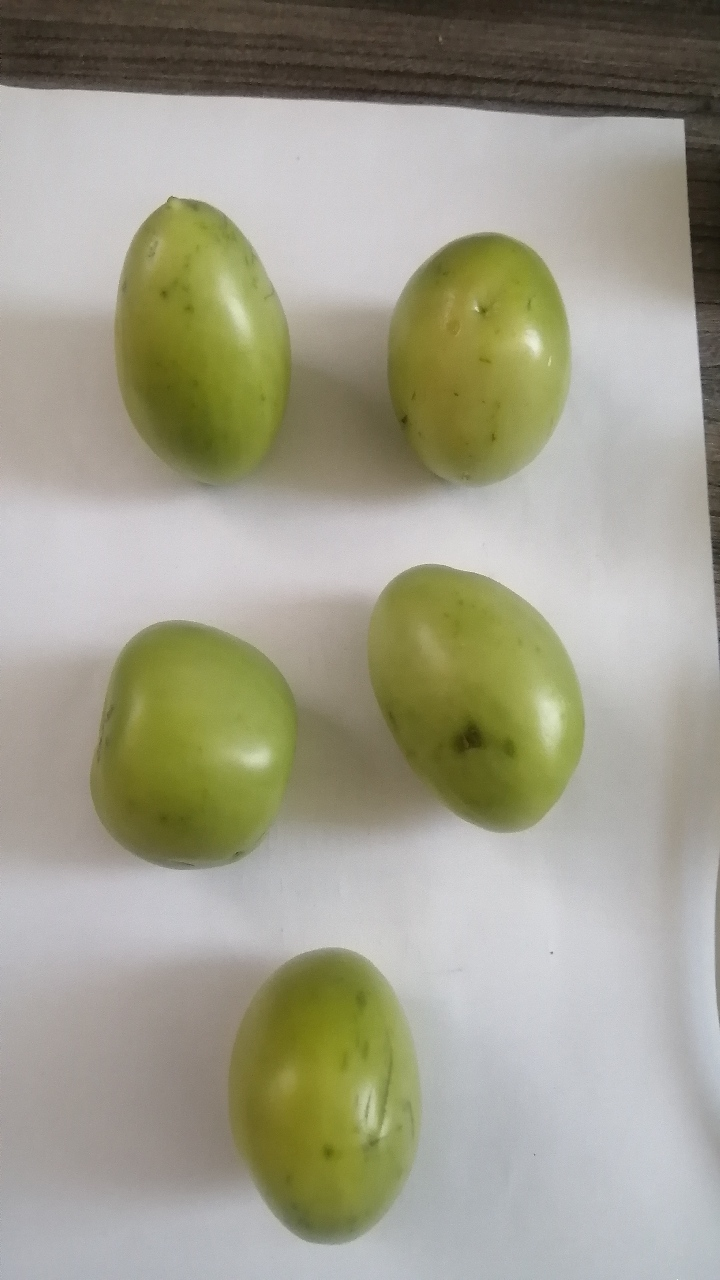tomateVerde: (212, 928, 454, 1257), (86, 179, 324, 505), (343, 549, 597, 845), (71, 597, 312, 900), (374, 208, 598, 522)
